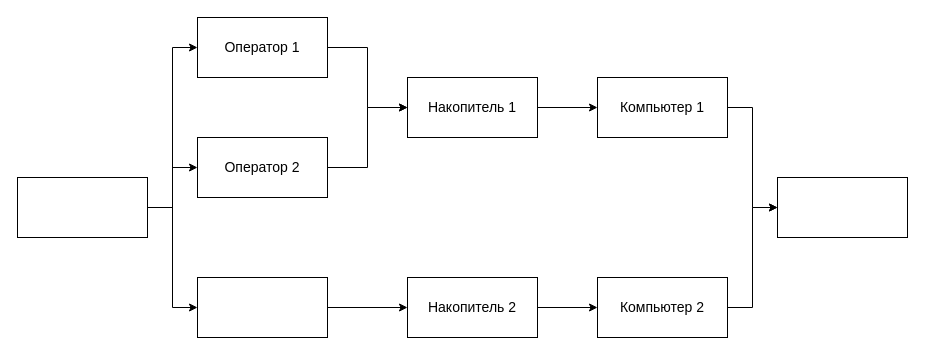
Some shapes in this 925 by 355 pixel diagram are drawn without their labels. The box of each missing label's shape, as (x1, y1, x2, y2) in pixels:
Клиенты: (16, 176, 148, 238)
Оператор 3: (196, 276, 328, 338)
Результаты: (776, 176, 908, 238)
